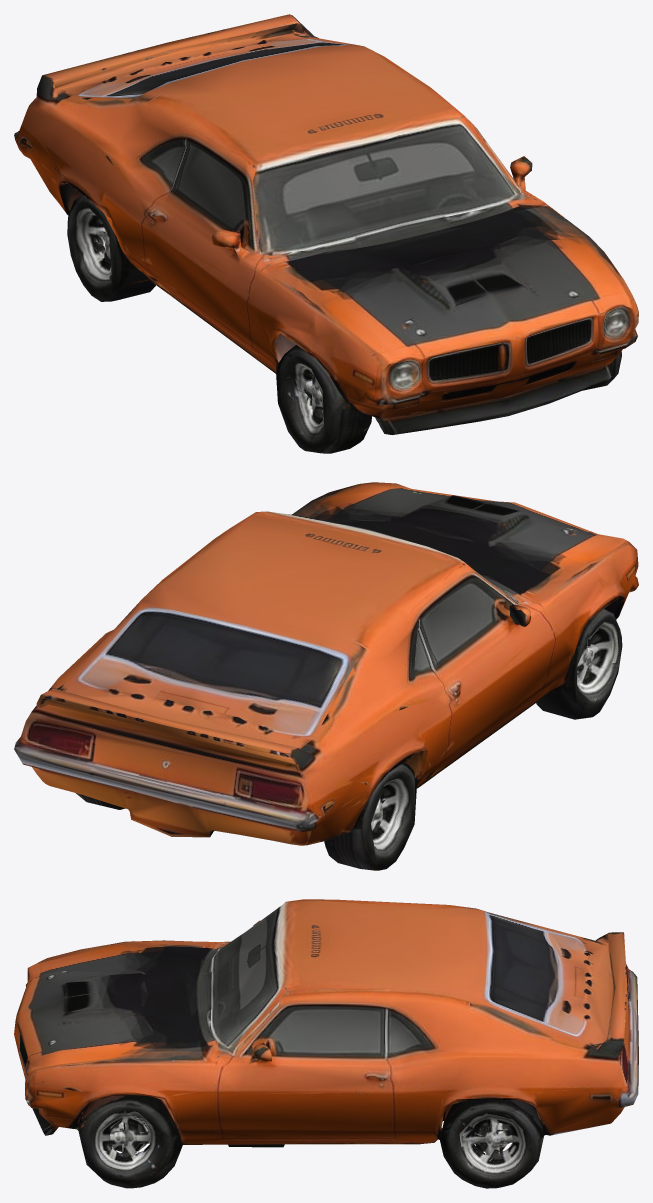
Rendered from boss429_69.glb.
3 views of the same model, one above another, from view 1: azimuth 30°, elevation 25°; view 2: azimuth 150°, elevation 25°; view 3: azimuth 270°, elevation 25° (orthographic). The views are drawn at different scales.
Visible parts, largest first — view 1: textured; view 2: textured; view 3: textured.
Boxes of the visible parts, x1,y1,x2,y2 form: textured: (14,14,638,453); textured: (14,482,638,870); textured: (14,899,638,1188).
Bounding box in the file's own units: 1.04 × 0.6608 × 1.99.
1 material, 1 textured.
